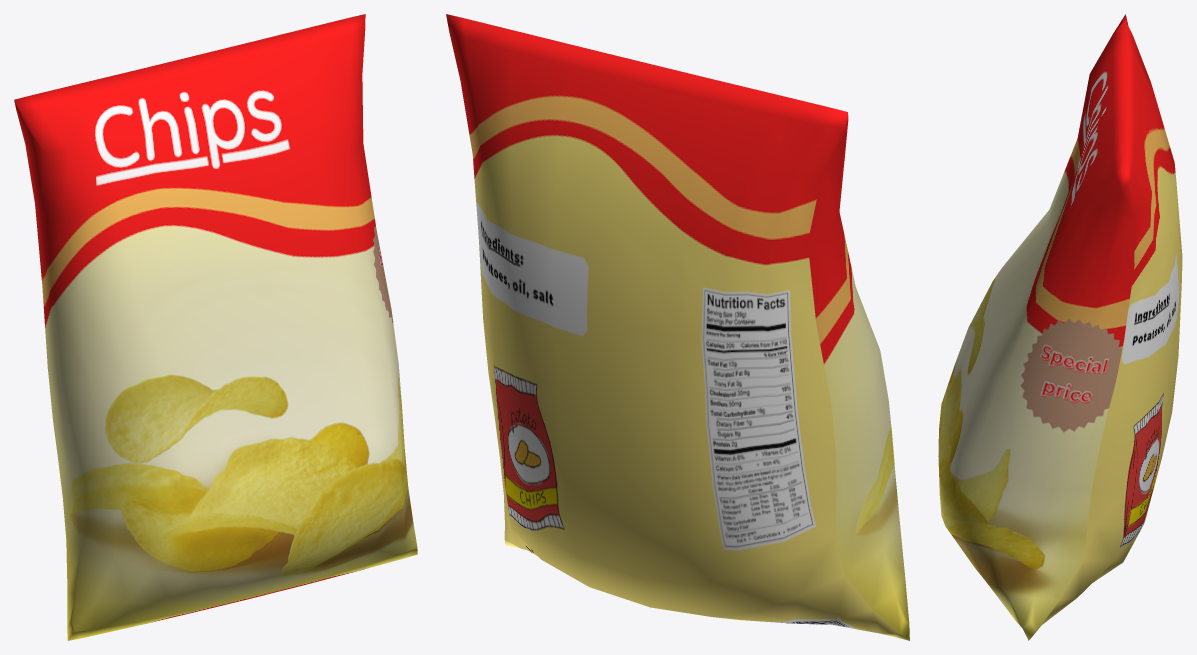
File: Chips 1.fbx
3 views of the same model, side by side, from view 1: azimuth 30°, elevation 25°; view 2: azimuth 150°, elevation 25°; view 3: azimuth 270°, elevation 25° (orthographic). The views are drawn at different scales.
Visible parts, largest first — view 1: chips 1; view 2: chips 1; view 3: chips 1.
Boxes of the visible parts, x1=… form: chips 1: x1=14, y1=14, x2=417, y2=640; chips 1: x1=446, y1=14, x2=909, y2=640; chips 1: x1=938, y1=14, x2=1182, y2=640.
Bounding box in the file's own units: 21.21 × 28.96 × 13.69.
Materials: 1 (1 with a texture image).
